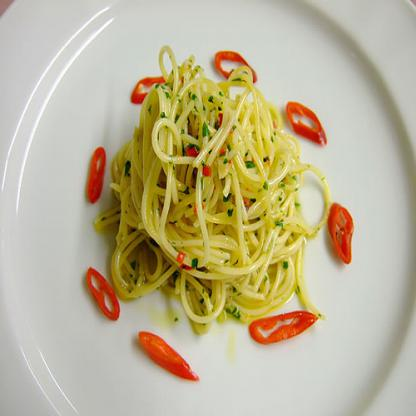Noodles: (91, 43, 334, 338)
